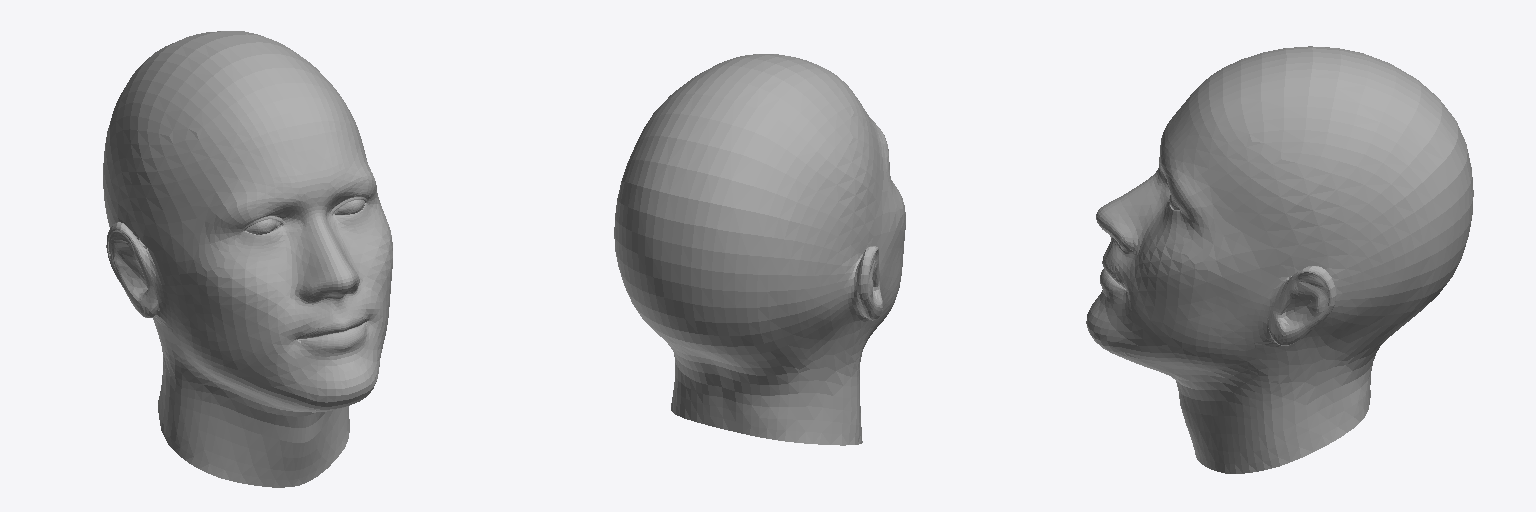
File: TheRock2.obj
3 views of the same model, side by side, from view 1: azimuth 30°, elevation 25°; view 2: azimuth 150°, elevation 25°; view 3: azimuth 270°, elevation 25° (orthographic).
Parts seen in each view (by area): view 1: FaceGen; view 2: FaceGen; view 3: FaceGen.
Boxes of the visible parts, x1=… form: FaceGen: x1=103, y1=31, x2=392, y2=487; FaceGen: x1=614, y1=54, x2=905, y2=445; FaceGen: x1=1086, y1=46, x2=1473, y2=473.
Bounding box in the file's own units: 184 × 281 × 247.